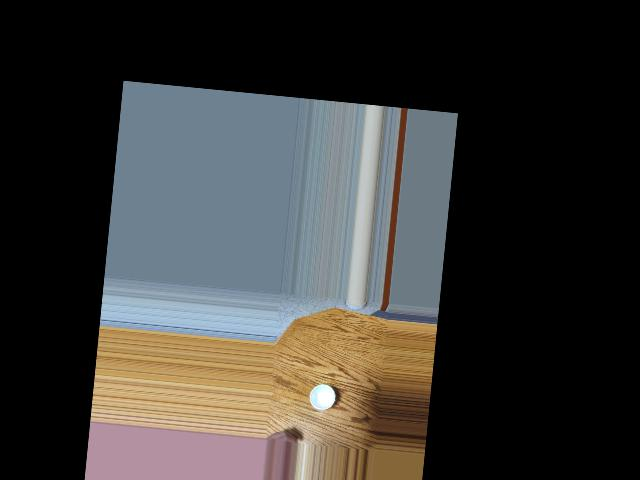cotage: (305, 382, 335, 414)
